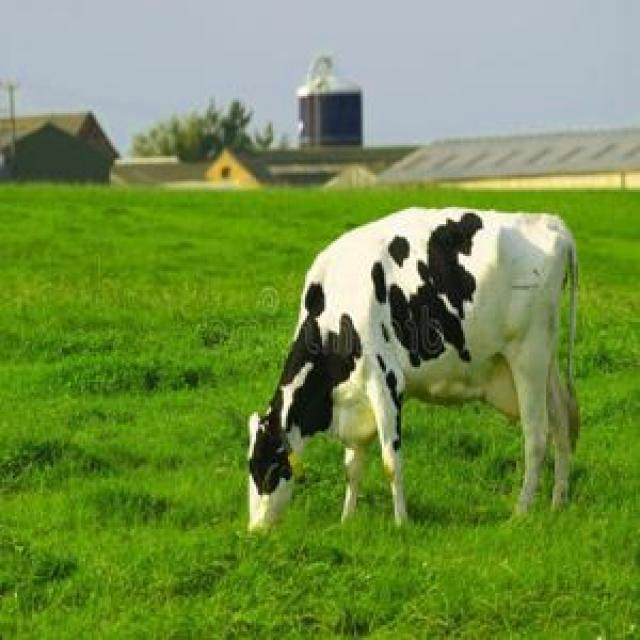cow: (249, 208, 578, 528)
